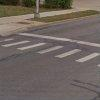Crosswalk: (5, 26, 100, 86)
